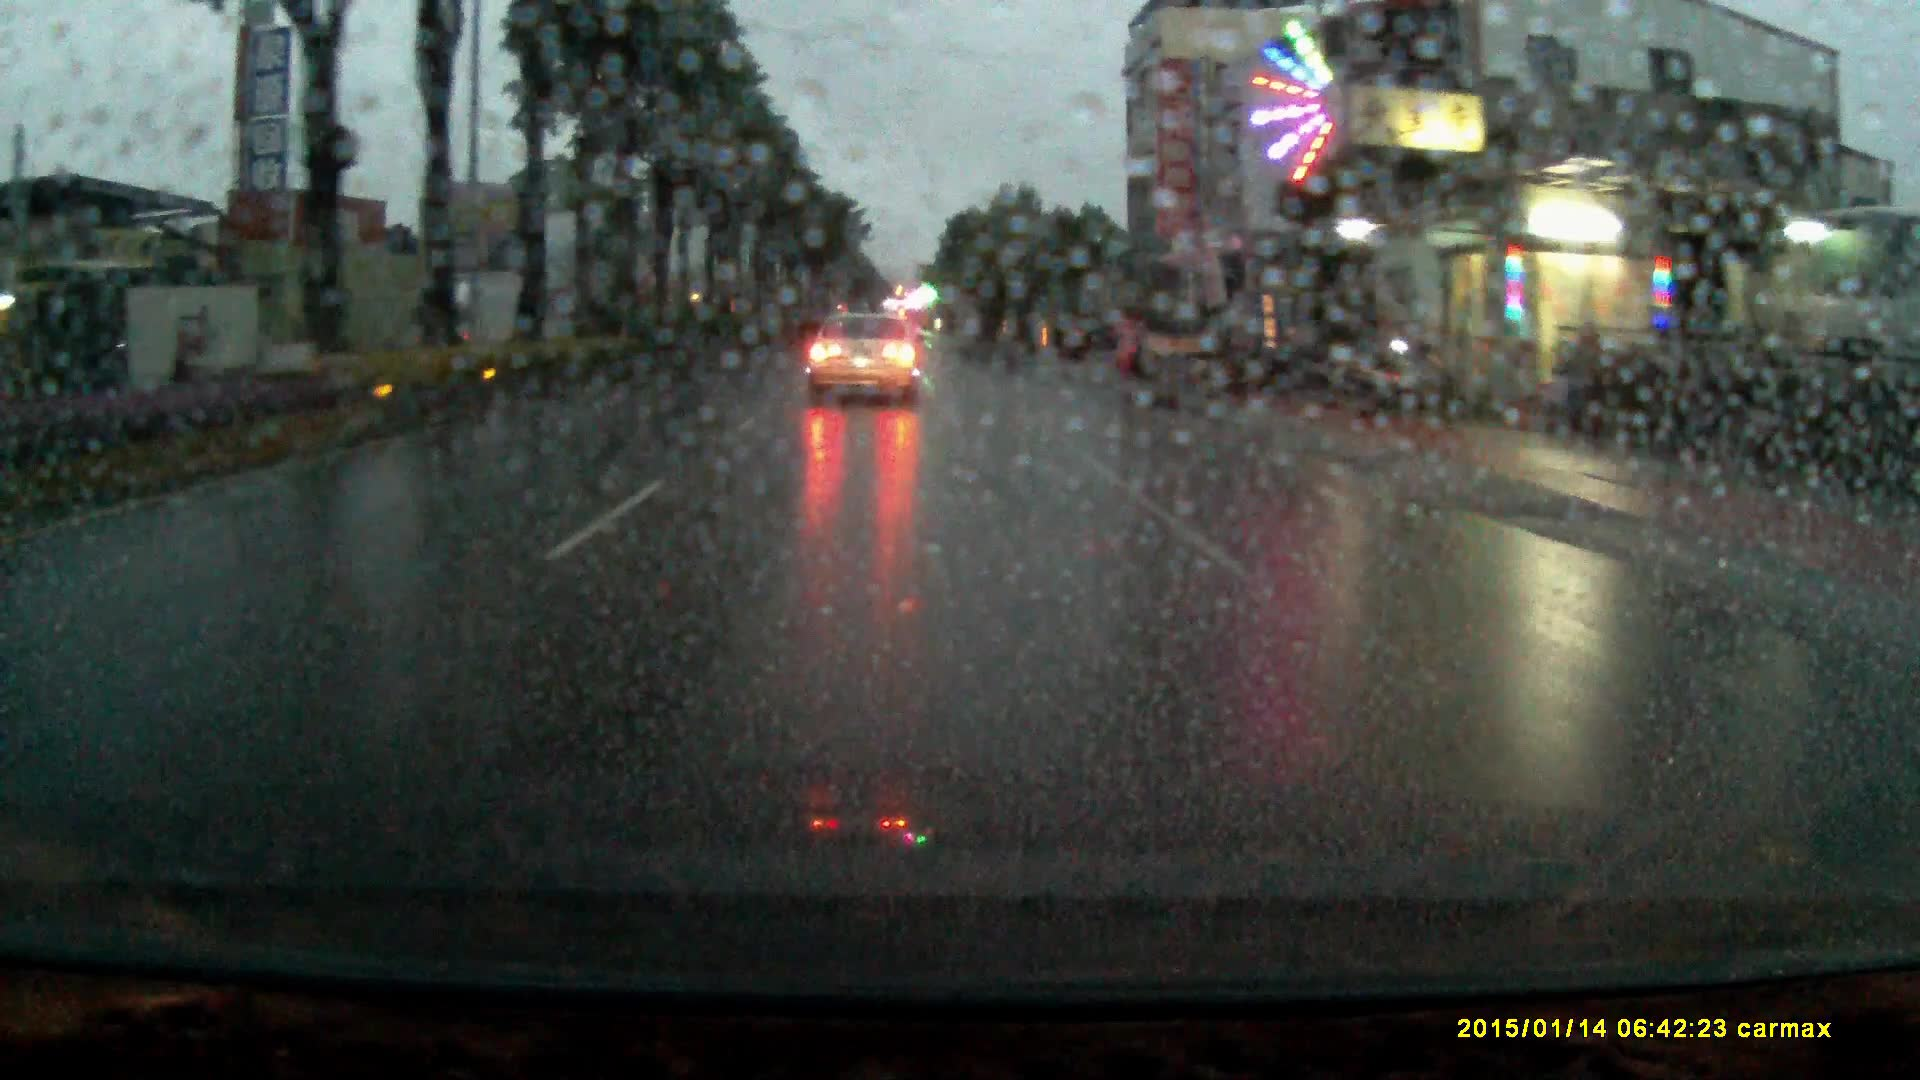vehicle: (808, 305, 918, 407), (422, 260, 535, 344), (1048, 309, 1120, 360)
